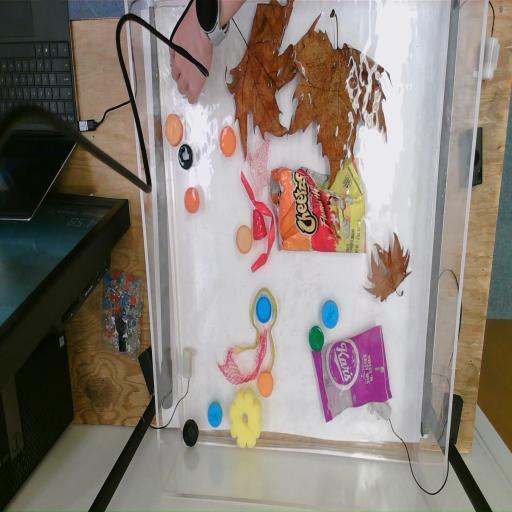Bottle Cap: (162, 111, 184, 148), (219, 125, 236, 157), (178, 142, 194, 174), (236, 224, 253, 254), (257, 370, 274, 398), (184, 186, 201, 214), (308, 325, 325, 353), (322, 300, 339, 328), (256, 296, 272, 325), (182, 418, 198, 446), (207, 401, 222, 428)
Cone Cap: (253, 210, 266, 242)
Leaf: (289, 8, 390, 192), (223, 0, 299, 161), (367, 237, 412, 306)
Netting: (217, 342, 267, 386), (246, 140, 270, 192)
Plastic Bag: (272, 167, 368, 255), (315, 332, 387, 414)
Plastic Strand: (232, 284, 278, 376), (239, 170, 275, 273)
Sponge: (232, 391, 262, 446)
